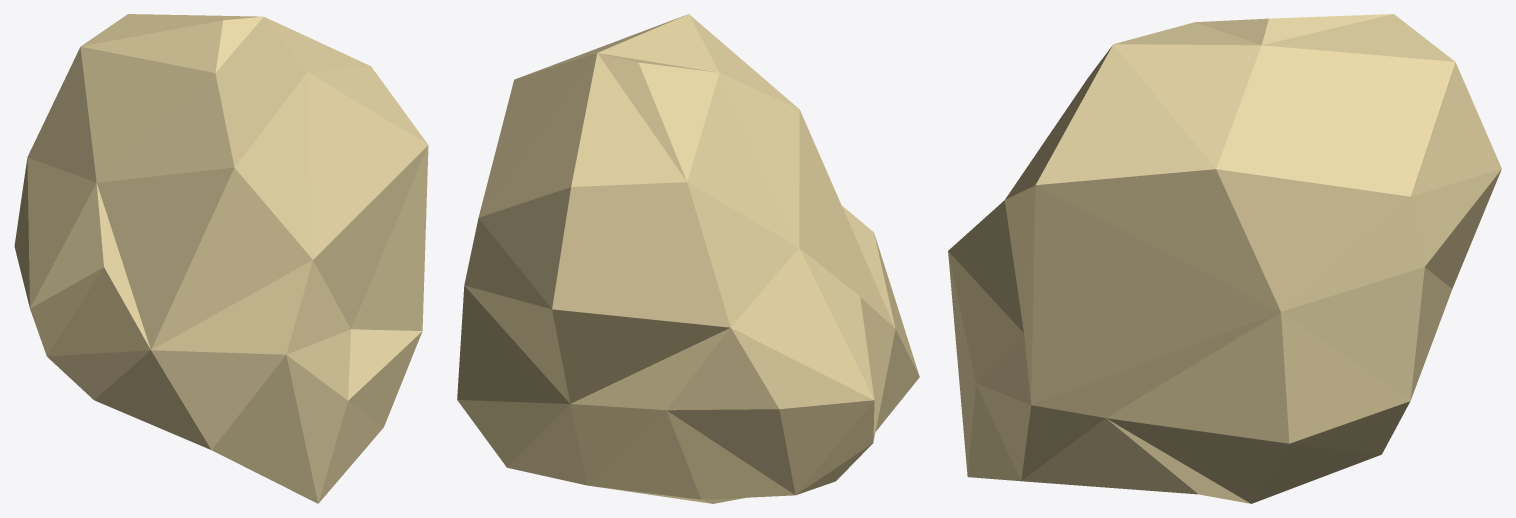
File: Rock (34).fbx
The picture shows the model from 3 angles, left to right: view 1: azimuth 30°, elevation 25°; view 2: azimuth 150°, elevation 25°; view 3: azimuth 270°, elevation 25°; orthographic projection. The views are drawn at different scales.
Visible parts, largest first — view 1: Asteroid33; view 2: Asteroid33; view 3: Asteroid33.
Boxes of the visible parts, bbox=[...] form: Asteroid33: bbox=[14, 14, 428, 503]; Asteroid33: bbox=[457, 14, 919, 503]; Asteroid33: bbox=[948, 14, 1501, 503].
Size of the model in its own units: 169 by 188 by 199.
